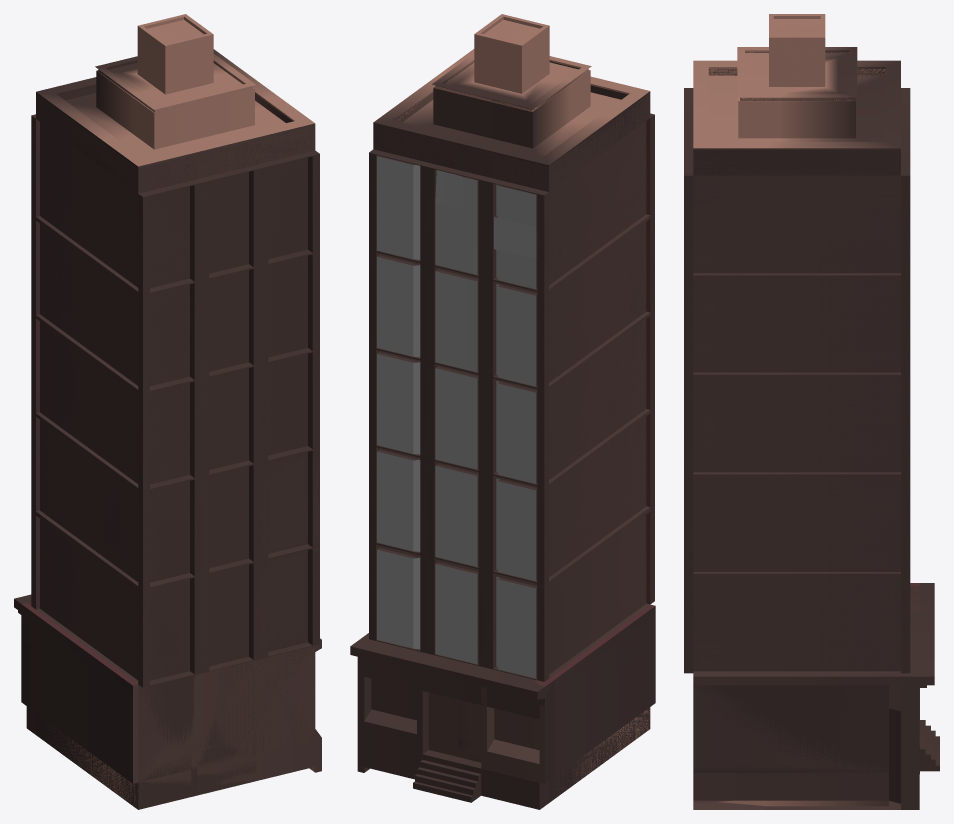
Rendered from BUILDINGS ASSET .fbx.
3 views of the same model, side by side, from view 1: azimuth 30°, elevation 25°; view 2: azimuth 150°, elevation 25°; view 3: azimuth 270°, elevation 25° (orthographic). The views are drawn at different scales.
Parts seen in each view (by area): view 1: Cube.039; view 2: Cube.039; view 3: Cube.039.
Part boxes in pixels (<box>): Cube.039: <box>14,14,321,809</box>; Cube.039: <box>350,14,655,809</box>; Cube.039: <box>684,14,939,809</box>.
Size of the model in its own units: 133327 by 489948 by 154104.
Materials: 1 (1 with a texture image).
